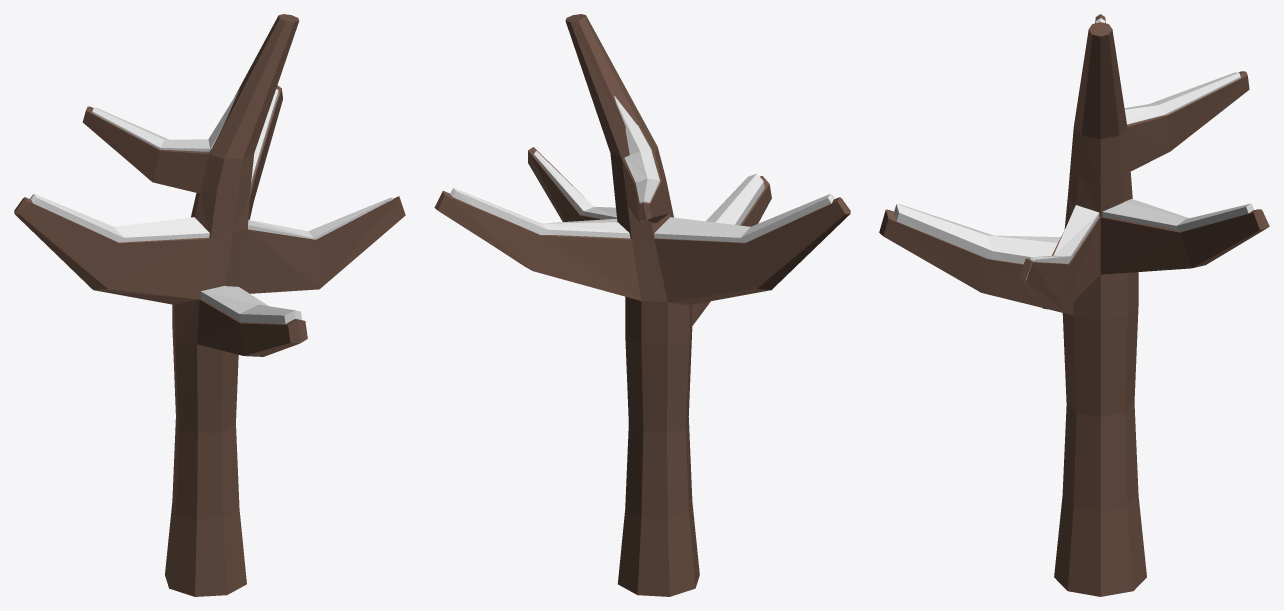
The model's file is broad_deciduous_tree_snow.obj.
The picture shows the model from 3 angles, left to right: view 1: azimuth 30°, elevation 25°; view 2: azimuth 150°, elevation 25°; view 3: azimuth 270°, elevation 25°; orthographic projection. The views are drawn at different scales.
Visible parts, largest first — view 1: Broad_deciduous_tree_snow; view 2: Broad_deciduous_tree_snow; view 3: Broad_deciduous_tree_snow.
Boxes of the visible parts, left/top/right/bottom form: Broad_deciduous_tree_snow: left=14, top=14, right=405, bottom=596; Broad_deciduous_tree_snow: left=434, top=14, right=850, bottom=596; Broad_deciduous_tree_snow: left=879, top=14, right=1269, bottom=596.
Bounding box in the file's own units: 1.63 × 2.38 × 1.42.
1 material, 1 textured.
